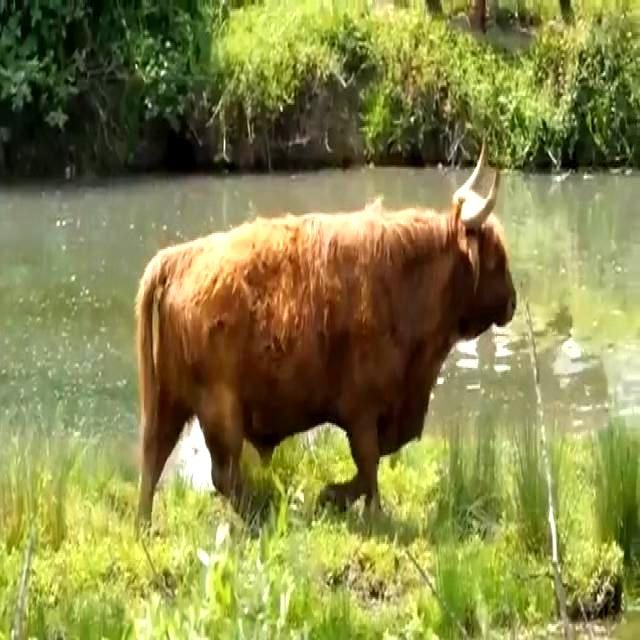COW: (136, 147, 516, 526)
